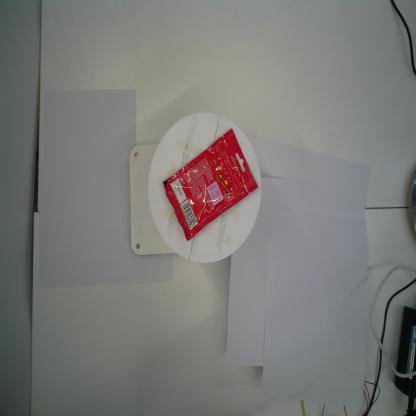Candy: (160, 126, 259, 243)
